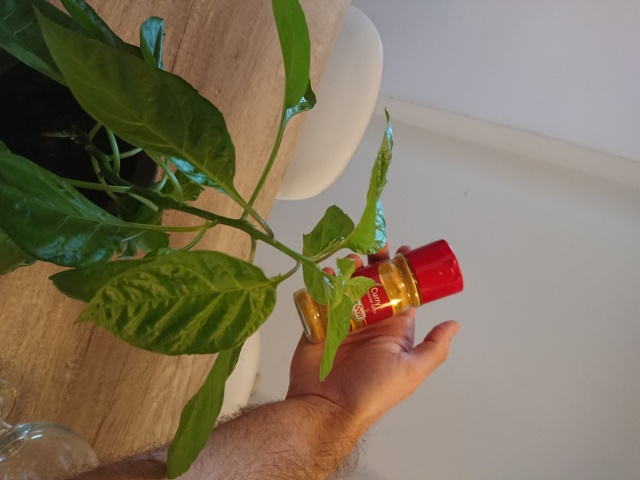Kotanyi Curry Spices Mix 70g: (292, 237, 466, 346)
